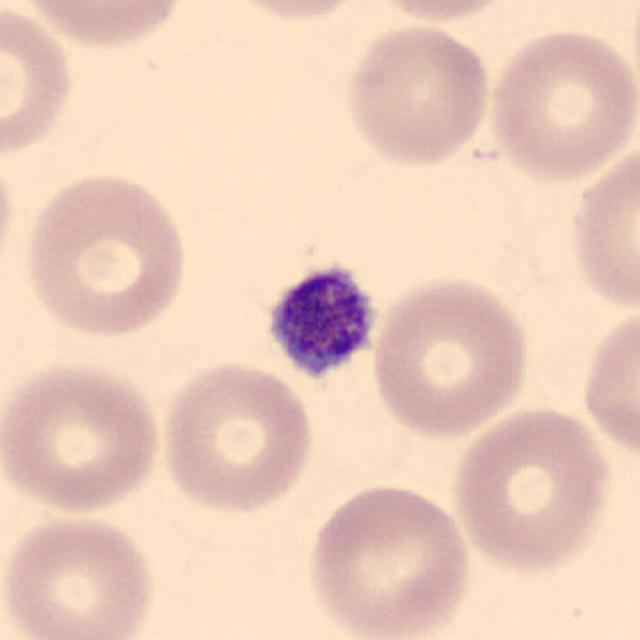Platelets: (260, 261, 384, 384)
RBC: (18, 166, 192, 342), (446, 402, 617, 575), (368, 270, 533, 441), (300, 480, 474, 638), (0, 358, 167, 518), (155, 358, 318, 516), (482, 25, 638, 183), (340, 19, 496, 171), (0, 508, 160, 640), (562, 134, 638, 317), (0, 0, 78, 164), (578, 302, 638, 466), (16, 0, 192, 53), (361, 0, 523, 26), (210, 0, 375, 25), (0, 141, 18, 289)
